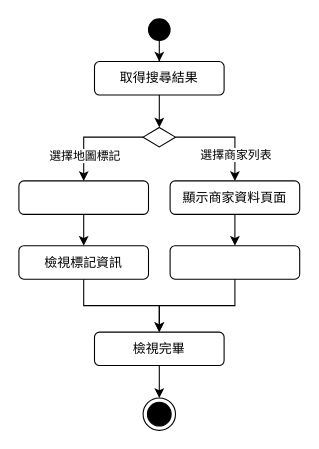
Some shapes in this 319 by 449 pixel diagram are drawn without their labels. The shapes that lost their labels are listed below. From the top down, each one's centre as x and y in pixels, then its label:
pixel 83 197: 顯示標記詳細資訊
pixel 234 262: 檢視商家資訊
